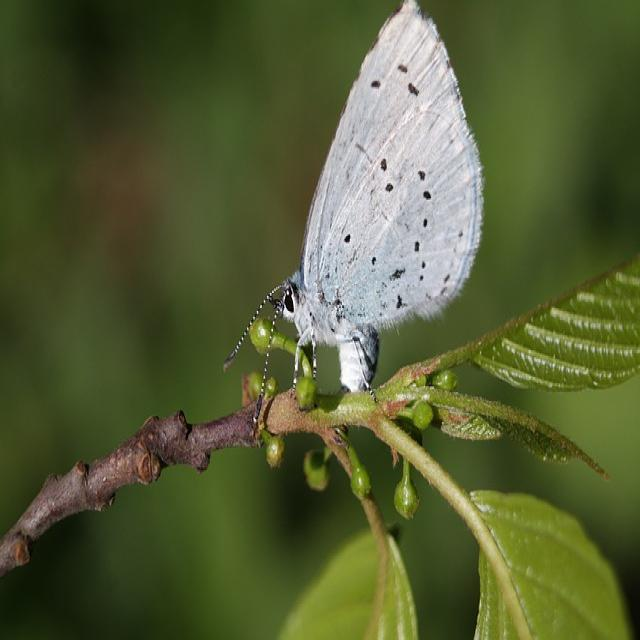butterfly: (226, 0, 485, 407)
